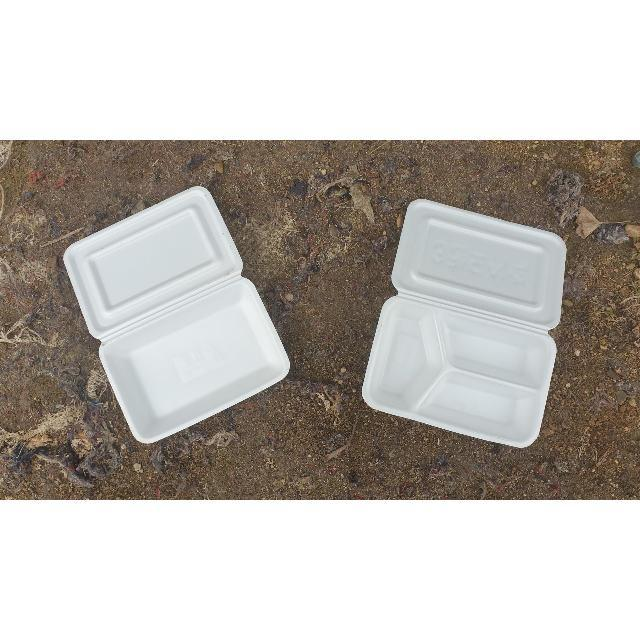Recipiente plastico: (64, 186, 290, 442), (362, 200, 565, 447)
